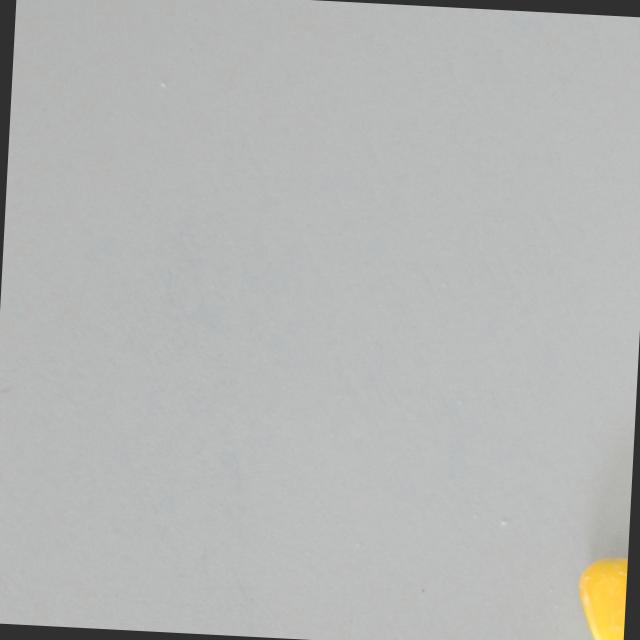pelicula: (572, 550, 628, 640)
